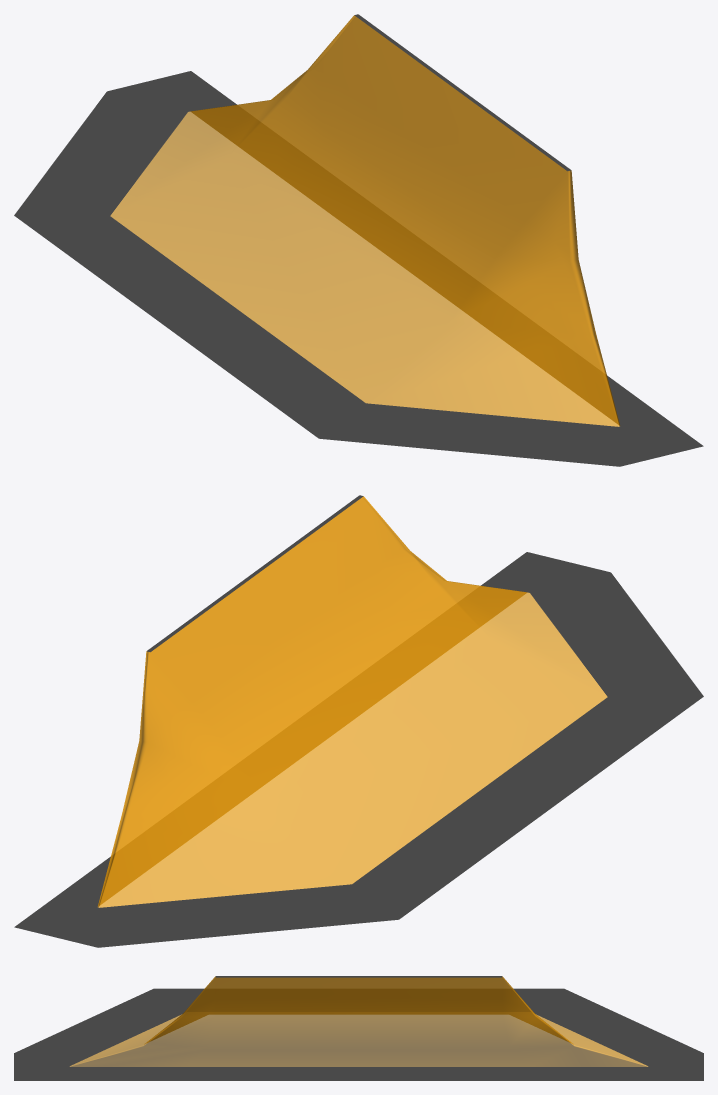
The model's file is Ramp.fbx.
3 renders of one model, top to bottom at view 1: azimuth 30°, elevation 25°; view 2: azimuth 150°, elevation 25°; view 3: azimuth 270°, elevation 25°, orthographic. The views are drawn at different scales.
Parts seen in each view (by area): view 1: Ramp; view 2: Ramp; view 3: Ramp.
Boxes of the visible parts, x1,y1,x2,y2 form: Ramp: (14,14,703,466); Ramp: (14,495,703,947); Ramp: (14,976,703,1080).
Size of the model in its own units: 2.4 by 1.25 by 7.15.
